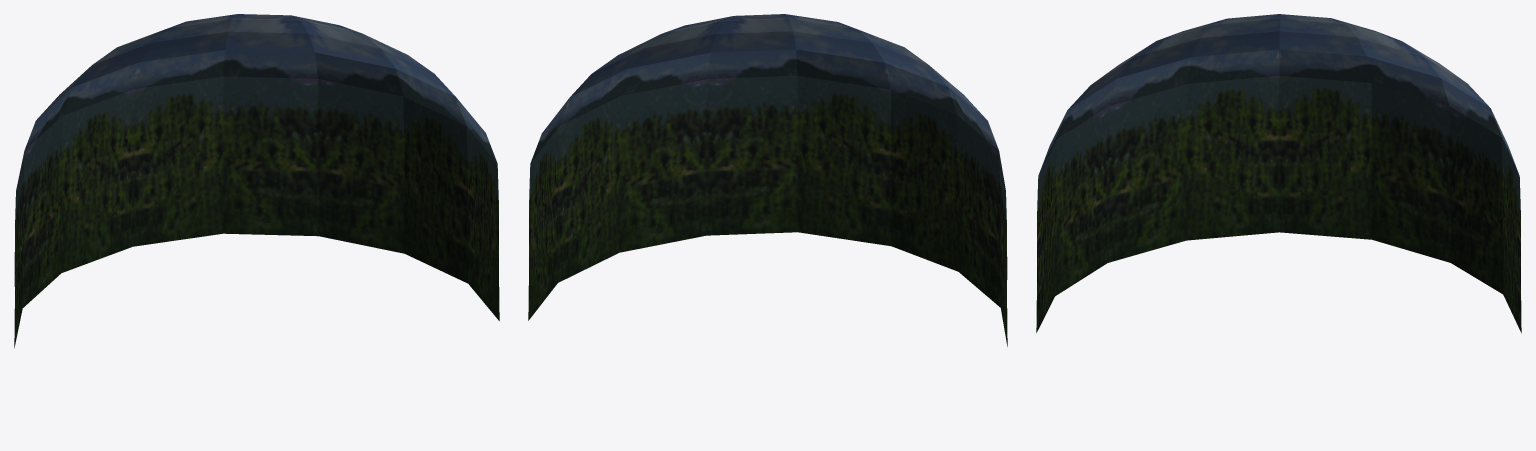
Rendered from Track_04_sky.glb.
3 views of the same model, side by side, from view 1: azimuth 30°, elevation 25°; view 2: azimuth 150°, elevation 25°; view 3: azimuth 270°, elevation 25° (orthographic).
Visible parts, largest first — view 1: Mesh_0; view 2: Mesh_0; view 3: Mesh_0.
Part boxes in pixels (bbox=[...]): Mesh_0: bbox=[14, 14, 499, 348]; Mesh_0: bbox=[528, 14, 1007, 346]; Mesh_0: bbox=[1036, 14, 1521, 333].
Size of the model in its own units: 366 by 243 by 366.
1 material, 1 textured.
